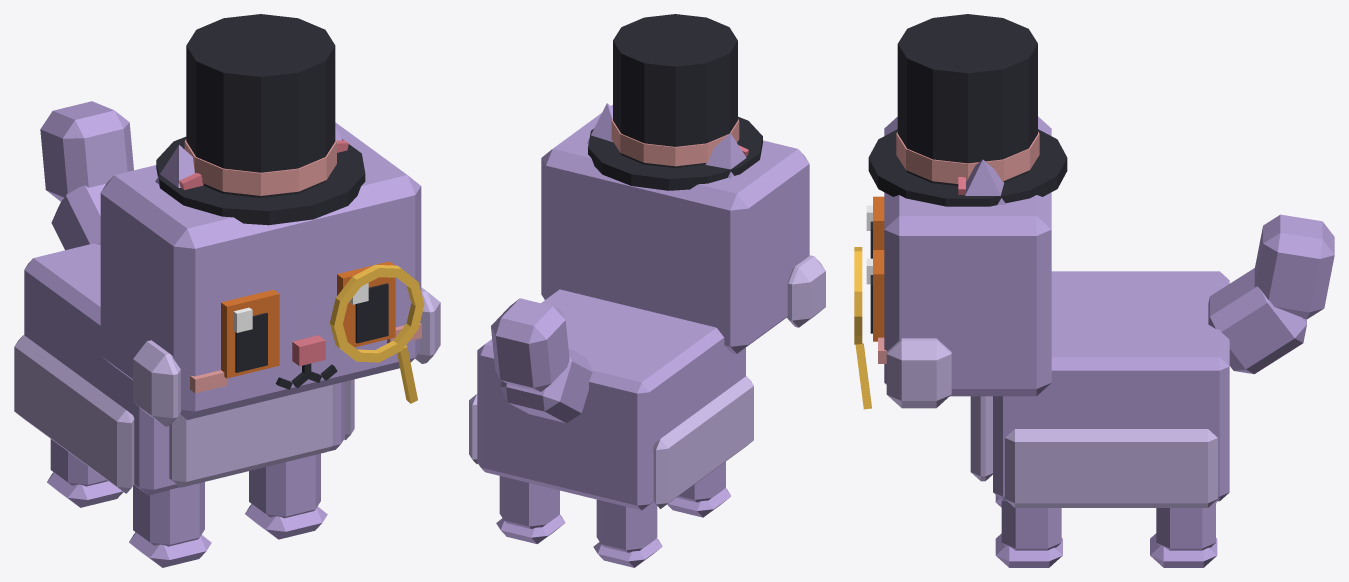
File: CatCafe_Cat_Persian.glb
3 views of the same model, side by side, from view 1: azimuth 30°, elevation 25°; view 2: azimuth 150°, elevation 25°; view 3: azimuth 270°, elevation 25° (orthographic). The views are drawn at different scales.
Visible parts, largest first — view 1: CatCafe_Cat_Persian_Head, CatCafe_Cat_Persian_Prop, CatCafe_Cat_Persian_Body, CatCafe_Cat_Persian_Tail, CatCafe_Cat_Persian_LegF2, CatCafe_Cat_Persian_LegF1, CatCafe_Cat_Persian_Eye2, CatCafe_Cat_Persian_Eye1, CatCafe_Cat_Persian_LegB2, CatCafe_Cat_Persian_EarR; view 2: CatCafe_Cat_Persian_Head, CatCafe_Cat_Persian_Body, CatCafe_Cat_Persian_Prop, CatCafe_Cat_Persian_Tail, CatCafe_Cat_Persian_LegB2, CatCafe_Cat_Persian_LegB1, CatCafe_Cat_Persian_LegF2, CatCafe_Cat_Persian_EarR, CatCafe_Cat_Persian_EarL; view 3: CatCafe_Cat_Persian_Body, CatCafe_Cat_Persian_Head, CatCafe_Cat_Persian_Prop, CatCafe_Cat_Persian_Tail, CatCafe_Cat_Persian_LegF1, CatCafe_Cat_Persian_LegB1, CatCafe_Cat_Persian_Eye1, CatCafe_Cat_Persian_EarL, CatCafe_Cat_Persian_Eye2.
Part boxes in pixels (bbox=[...]): CatCafe_Cat_Persian_Head: bbox=[100, 122, 440, 426]; CatCafe_Cat_Persian_Prop: bbox=[156, 14, 424, 403]; CatCafe_Cat_Persian_Body: bbox=[14, 243, 354, 495]; CatCafe_Cat_Persian_Tail: bbox=[40, 101, 133, 250]; CatCafe_Cat_Persian_LegF2: bbox=[129, 482, 211, 567]; CatCafe_Cat_Persian_LegF1: bbox=[245, 453, 327, 539]; CatCafe_Cat_Persian_Eye2: bbox=[221, 289, 279, 378]; CatCafe_Cat_Persian_Eye1: bbox=[337, 261, 395, 347]; CatCafe_Cat_Persian_LegB2: bbox=[47, 439, 123, 507]; CatCafe_Cat_Persian_EarR: bbox=[155, 145, 203, 189]; CatCafe_Cat_Persian_Head: bbox=[541, 105, 825, 353]; CatCafe_Cat_Persian_Body: bbox=[469, 289, 753, 510]; CatCafe_Cat_Persian_Prop: bbox=[588, 14, 762, 190]; CatCafe_Cat_Persian_Tail: bbox=[491, 298, 592, 423]; CatCafe_Cat_Persian_LegB2: bbox=[593, 499, 662, 567]; CatCafe_Cat_Persian_LegB1: bbox=[496, 476, 565, 544]; CatCafe_Cat_Persian_LegF2: bbox=[667, 461, 731, 517]; CatCafe_Cat_Persian_EarR: bbox=[705, 133, 748, 178]; CatCafe_Cat_Persian_EarL: bbox=[587, 103, 612, 143]; CatCafe_Cat_Persian_Body: bbox=[970, 271, 1229, 507]; CatCafe_Cat_Persian_Head: bbox=[878, 116, 1051, 408]; CatCafe_Cat_Persian_Prop: bbox=[854, 14, 1067, 409]; CatCafe_Cat_Persian_Tail: bbox=[1208, 214, 1334, 374]; CatCafe_Cat_Persian_LegF1: bbox=[995, 500, 1062, 567]; CatCafe_Cat_Persian_LegB1: bbox=[1150, 501, 1217, 567]; CatCafe_Cat_Persian_Eye1: bbox=[866, 250, 884, 341]; CatCafe_Cat_Persian_EarL: bbox=[958, 159, 1005, 204]; CatCafe_Cat_Persian_Eye2: bbox=[866, 196, 884, 258].
Bounding box in the file's own units: 1.26 × 2.17 × 1.93.
Materials: 1 (1 with a texture image).
